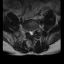CCS_normal: (30, 29, 32, 36)
LFS_normal: (34, 27, 36, 34)
LLS_normal: (32, 29, 34, 36)
RFS_normal: (27, 28, 29, 34)
RLS_normal: (29, 29, 30, 35)
